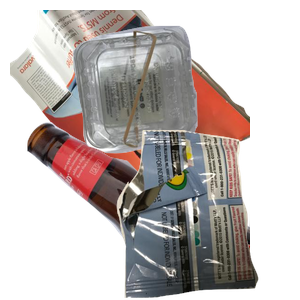glass: (25, 120, 265, 300)
paper: (10, 10, 250, 190)
plastic: (71, 23, 300, 169)
trash: (114, 130, 300, 300)
